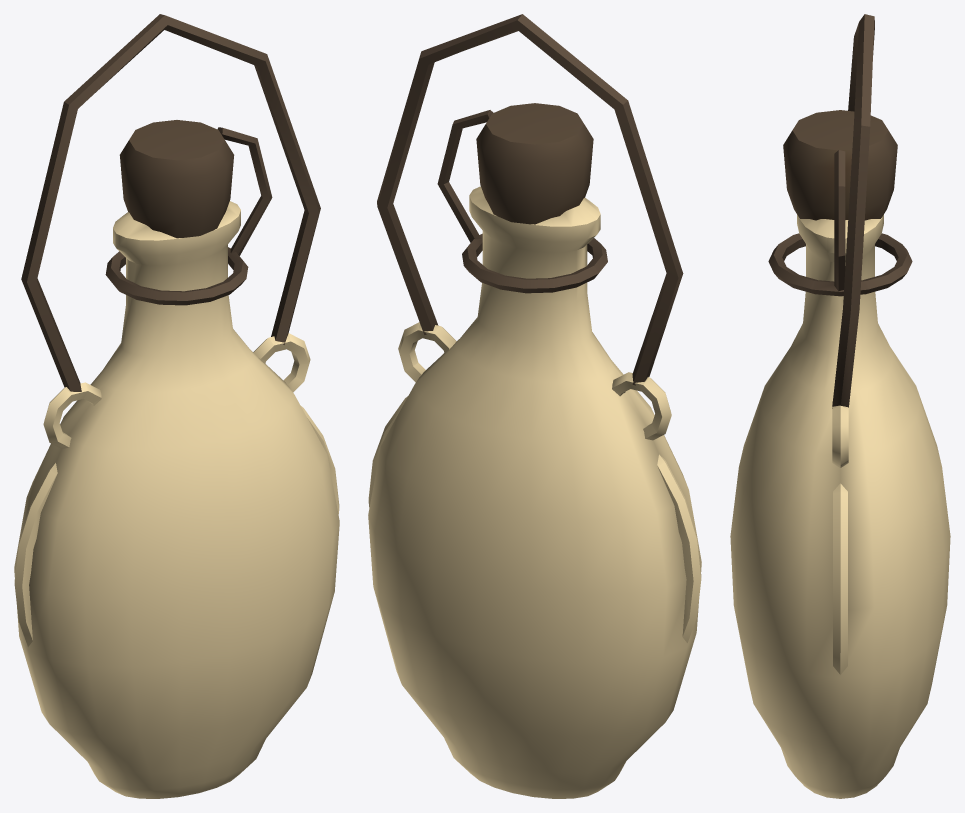
The model's file is flask.glb.
The picture shows the model from 3 angles, left to right: view 1: azimuth 30°, elevation 25°; view 2: azimuth 150°, elevation 25°; view 3: azimuth 270°, elevation 25°; orthographic projection. The views are drawn at different scales.
Parts seen in each view (by area): view 1: flask; view 2: flask; view 3: flask.
Part boxes in pixels (bbox=[...]): flask: bbox=[14, 14, 339, 798]; flask: bbox=[368, 14, 701, 798]; flask: bbox=[730, 14, 950, 798].
Size of the model in its own units: 0.0688 by 0.1525 by 0.0403.
